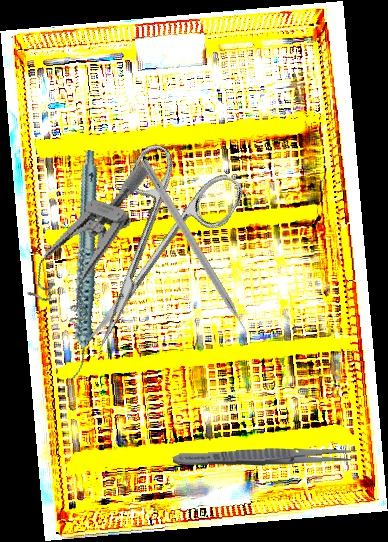Chopper: (130, 158, 255, 349)
Dressing Forceps: (172, 444, 358, 469)
Handpiece: (24, 149, 143, 382)
Iris Scissors: (45, 131, 248, 370)
Speculum: (20, 143, 151, 337)
